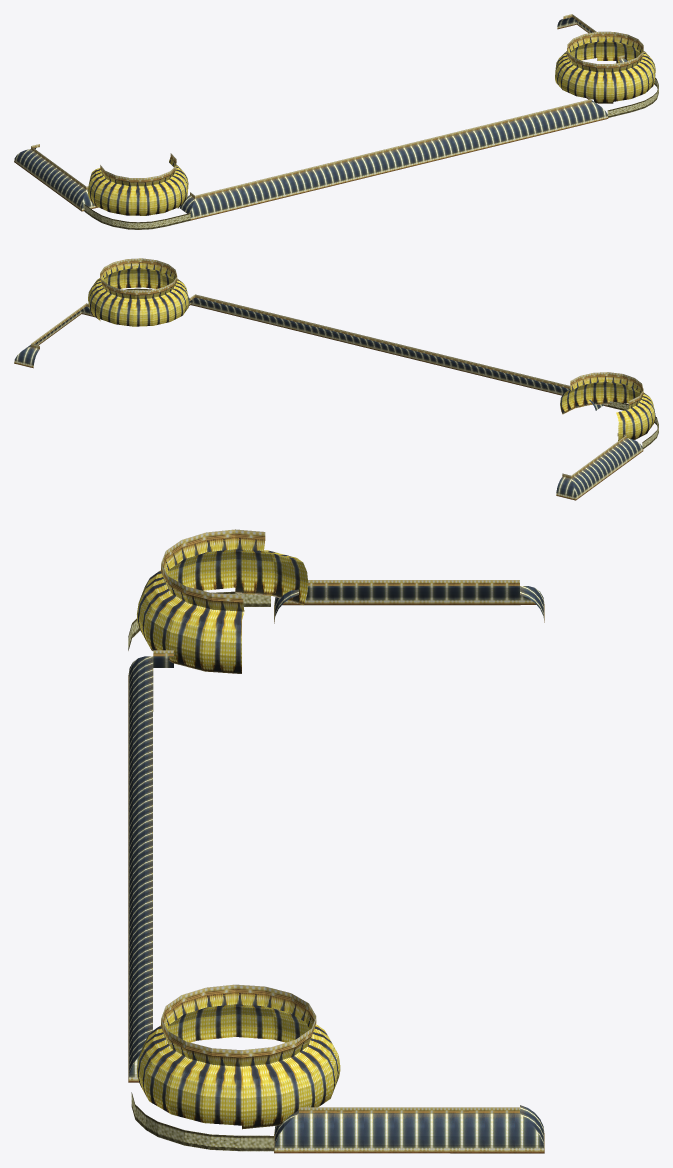
File: casinoblock5_nt.obj
The picture shows the model from 3 angles, top to bottom: view 1: azimuth 30°, elevation 25°; view 2: azimuth 150°, elevation 25°; view 3: azimuth 270°, elevation 25°; orthographic projection. The views are drawn at different scales.
Visible parts, largest first — view 1: casinoblock5_nt; view 2: casinoblock5_nt; view 3: casinoblock5_nt.
Boxes of the visible parts, x1,y1,x2,y2 form: casinoblock5_nt: (14, 14, 658, 229); casinoblock5_nt: (14, 258, 658, 500); casinoblock5_nt: (128, 529, 544, 1153).
Size of the model in its own units: 158 by 12.01 by 50.8.
3 materials, 3 textured.
